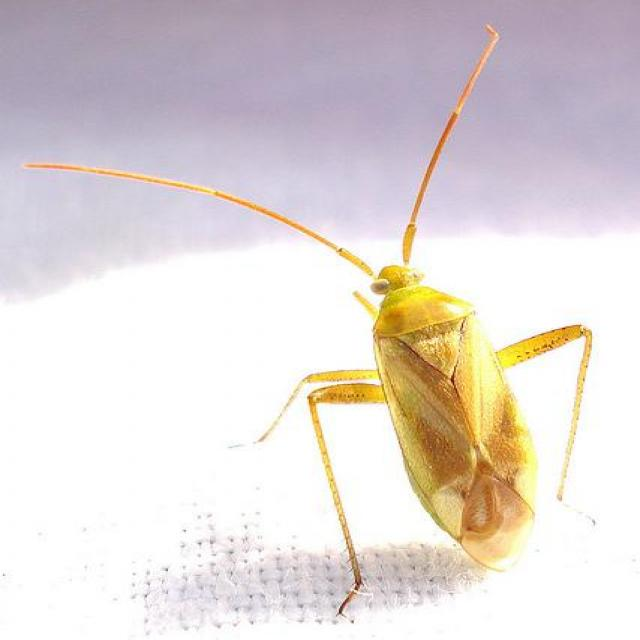Miridae-Adult-: (110, 22, 617, 610)
